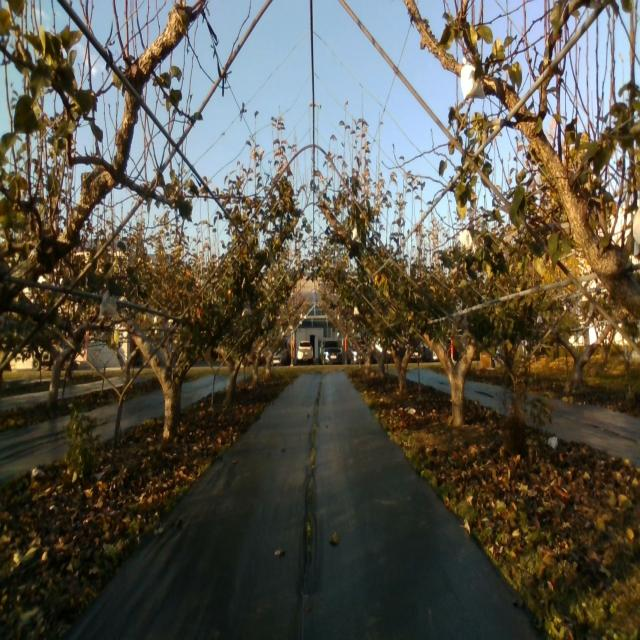pearbags: (460, 56, 485, 100), (98, 289, 116, 318), (458, 229, 476, 257)
